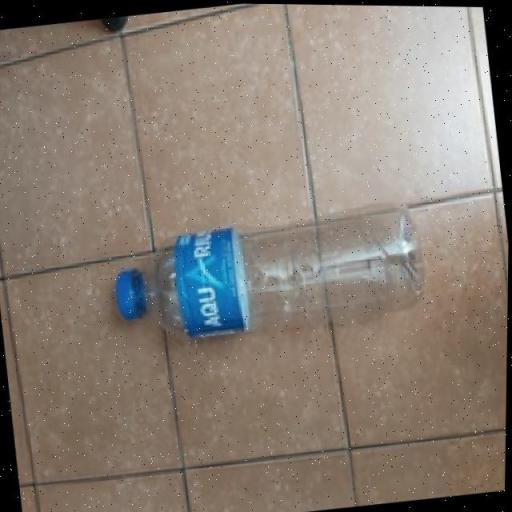plastic: (99, 194, 438, 357)
